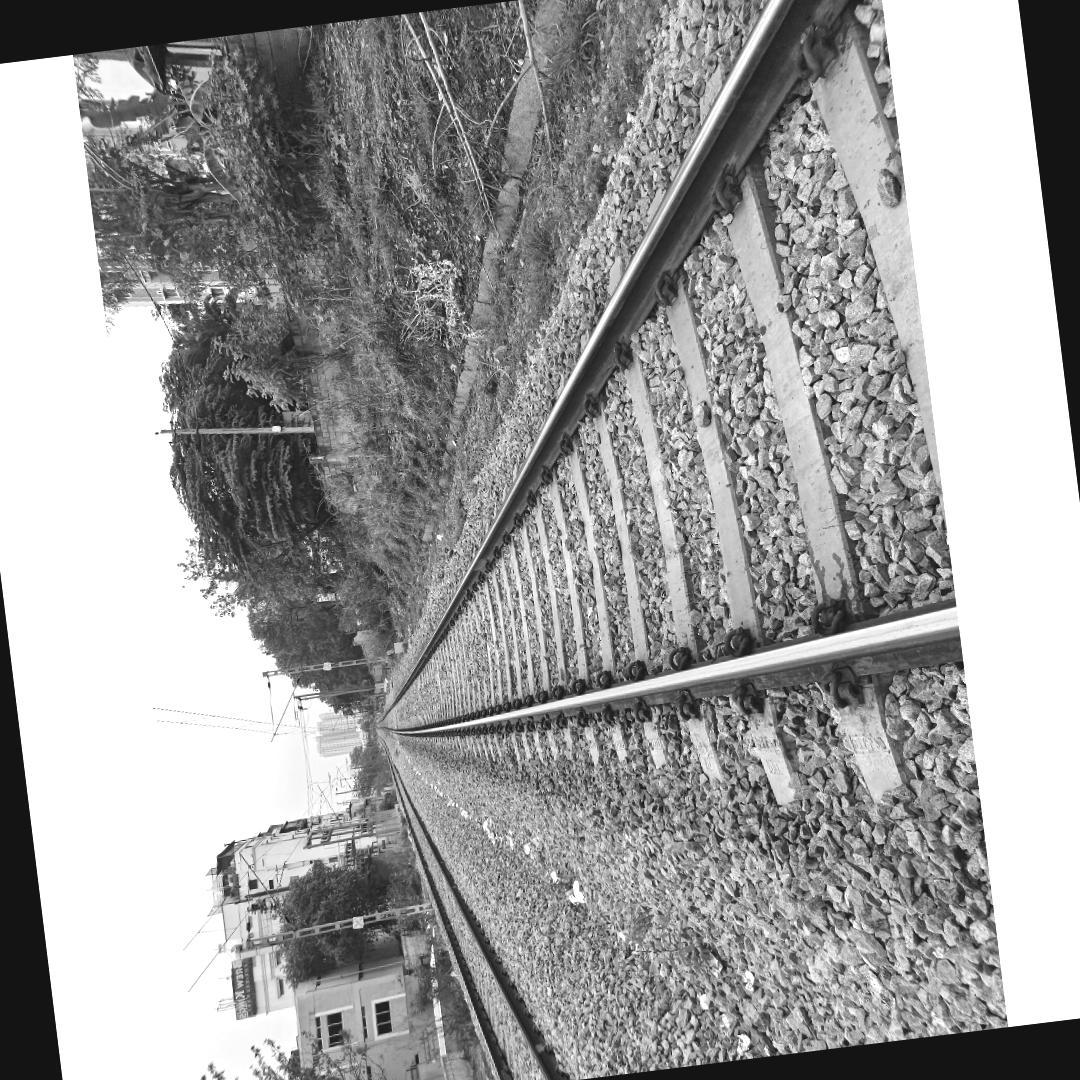standing: (77, 0, 1005, 1080)
track: (361, 0, 962, 745)
